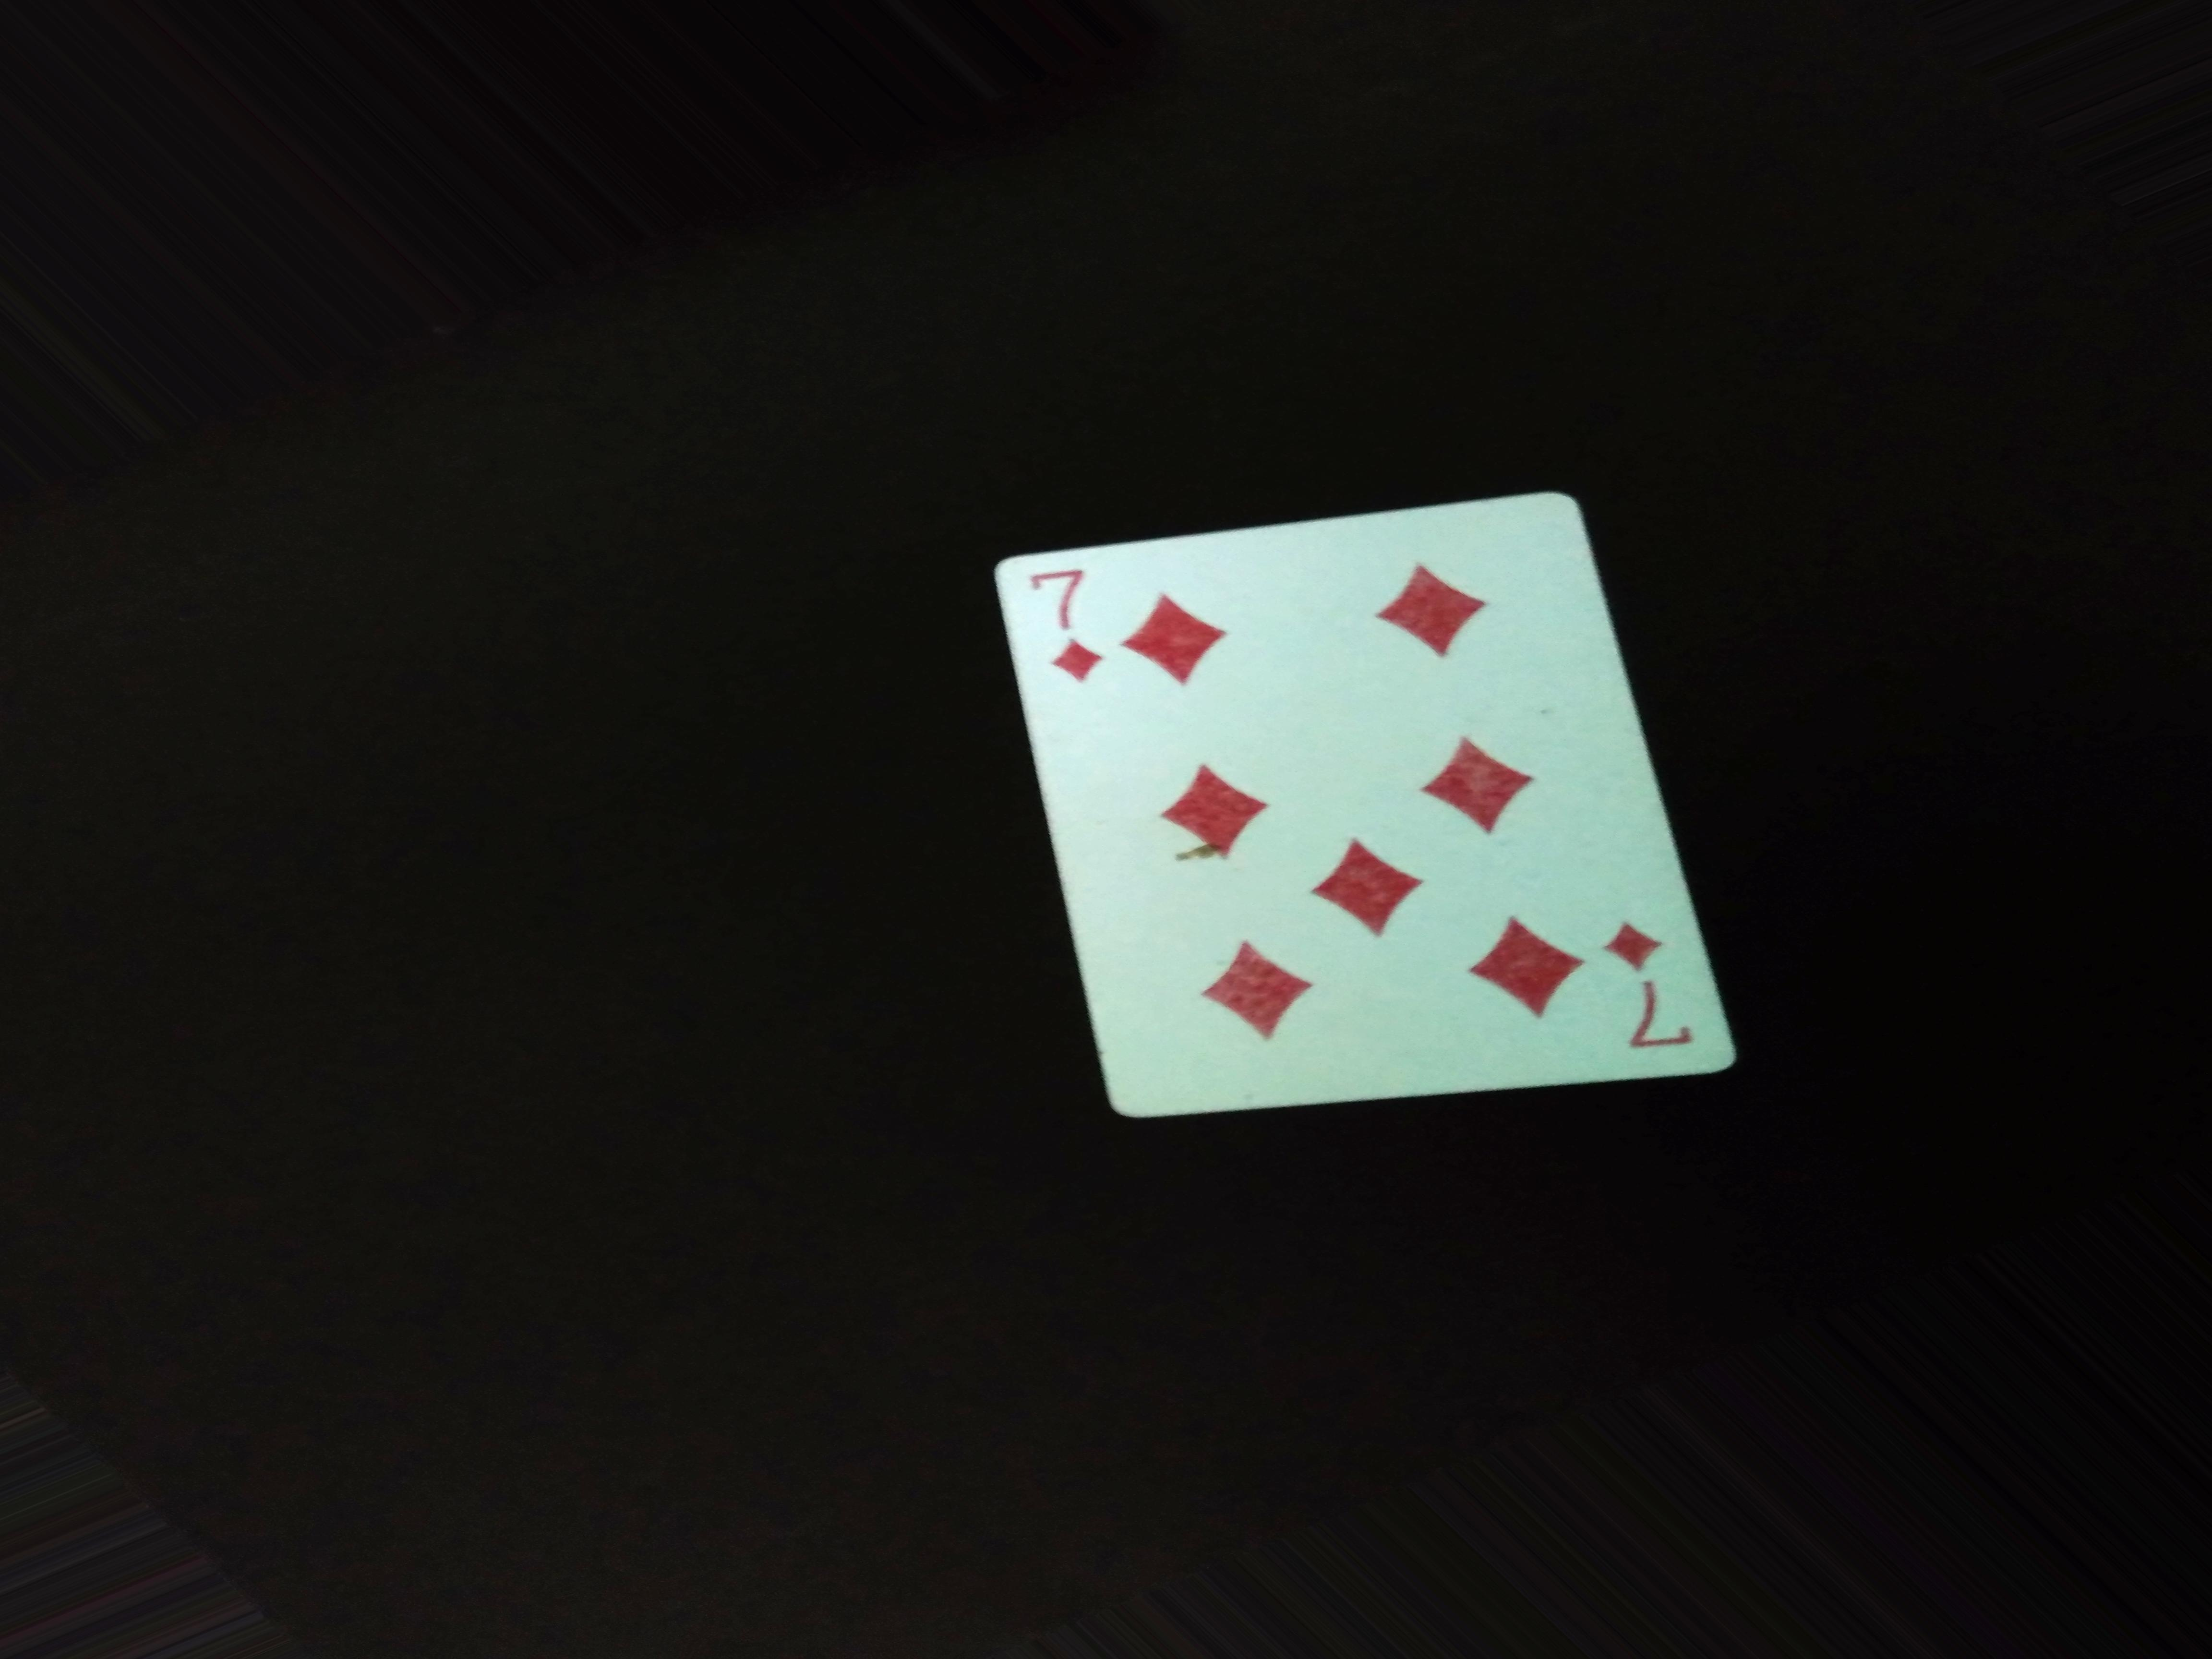7D: (1012, 561, 1118, 687)
